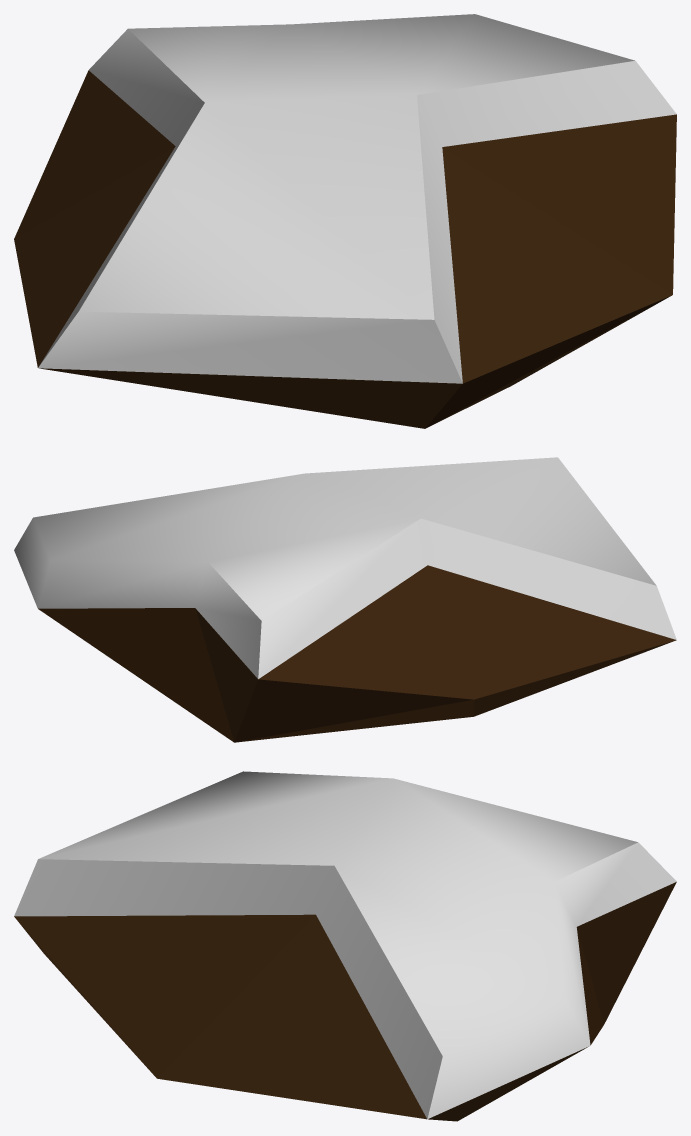
File: rock5.fbx
The picture shows the model from 3 angles, top to bottom: view 1: azimuth 30°, elevation 25°; view 2: azimuth 150°, elevation 25°; view 3: azimuth 270°, elevation 25°; orthographic projection. The views are drawn at different scales.
Parts seen in each view (by area): view 1: merge6; view 2: merge6; view 3: merge6.
Boxes of the visible parts, x1,y1,x2,y2 form: merge6: (14,14,676,428); merge6: (14,457,676,742); merge6: (14,771,676,1121).
Bounding box in the file's own units: 2.07 × 0.6557 × 1.82.
